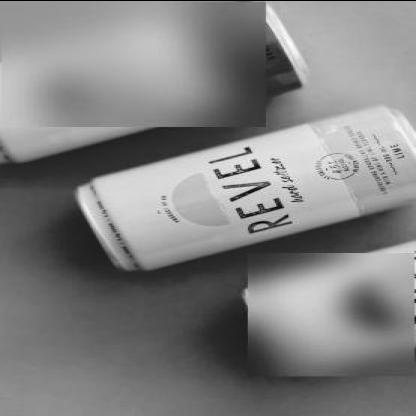alumunium_can: (72, 103, 414, 270)
